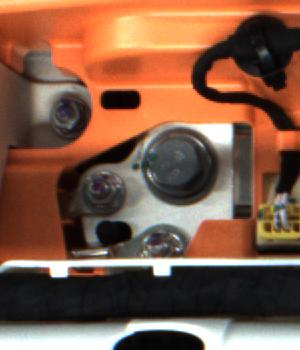nut_b: (135, 132, 219, 203)
screw_s: (76, 166, 123, 210), (47, 90, 87, 138), (138, 225, 183, 258)
